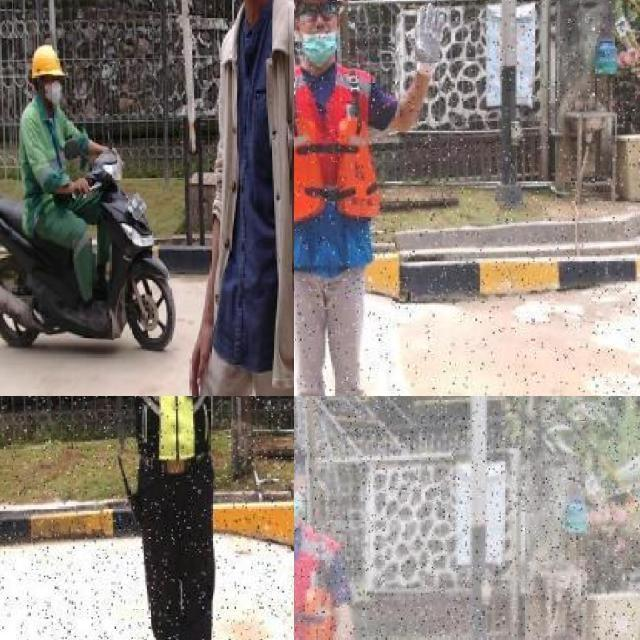apron: (407, 1, 447, 82)
